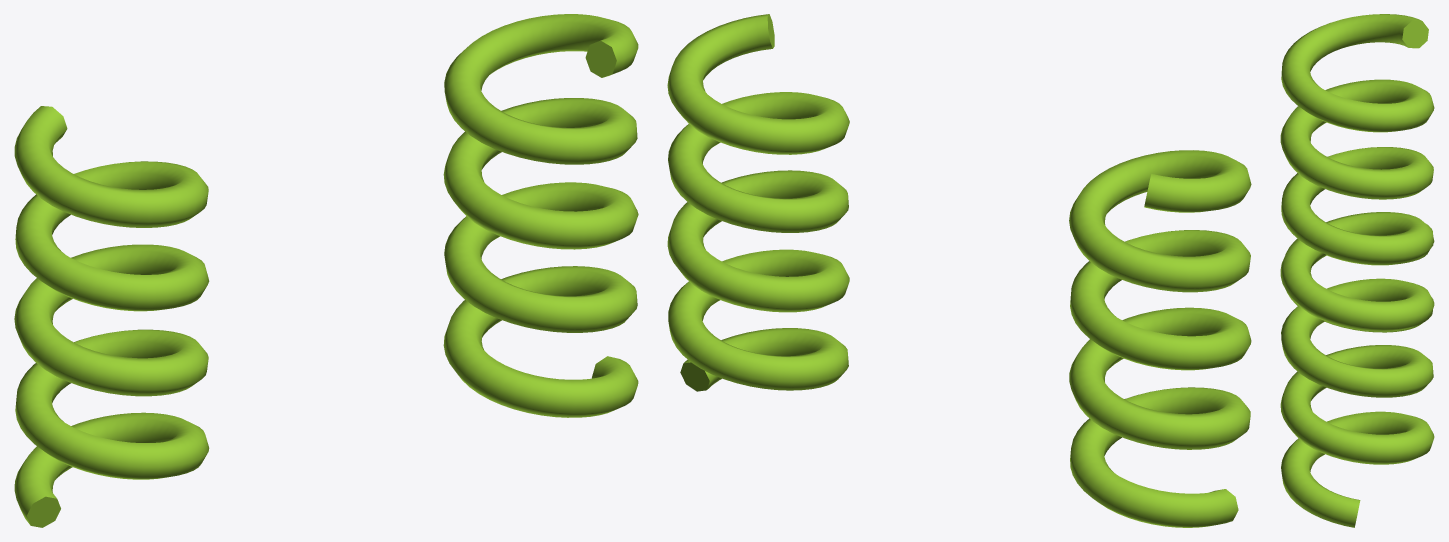
Rendered from Robot_Jump_Feet.FBX.
The picture shows the model from 3 angles, left to right: view 1: azimuth 30°, elevation 25°; view 2: azimuth 150°, elevation 25°; view 3: azimuth 270°, elevation 25°; orthographic projection. The views are drawn at different scales.
Visible parts, largest first — view 1: Helix001, Helix002; view 2: Helix002, Helix001; view 3: Helix001, Helix002.
Boxes of the visible parts, x1,y1,x2,y2 form: Helix001: [443, 14, 638, 417]; Helix002: [14, 106, 209, 527]; Helix002: [1069, 150, 1251, 527]; Helix001: [667, 14, 849, 391]; Helix001: [1280, 205, 1434, 527]; Helix002: [1280, 14, 1434, 332].
Bounding box in the file's own units: 0.8808 × 0.5444 × 0.2487.
